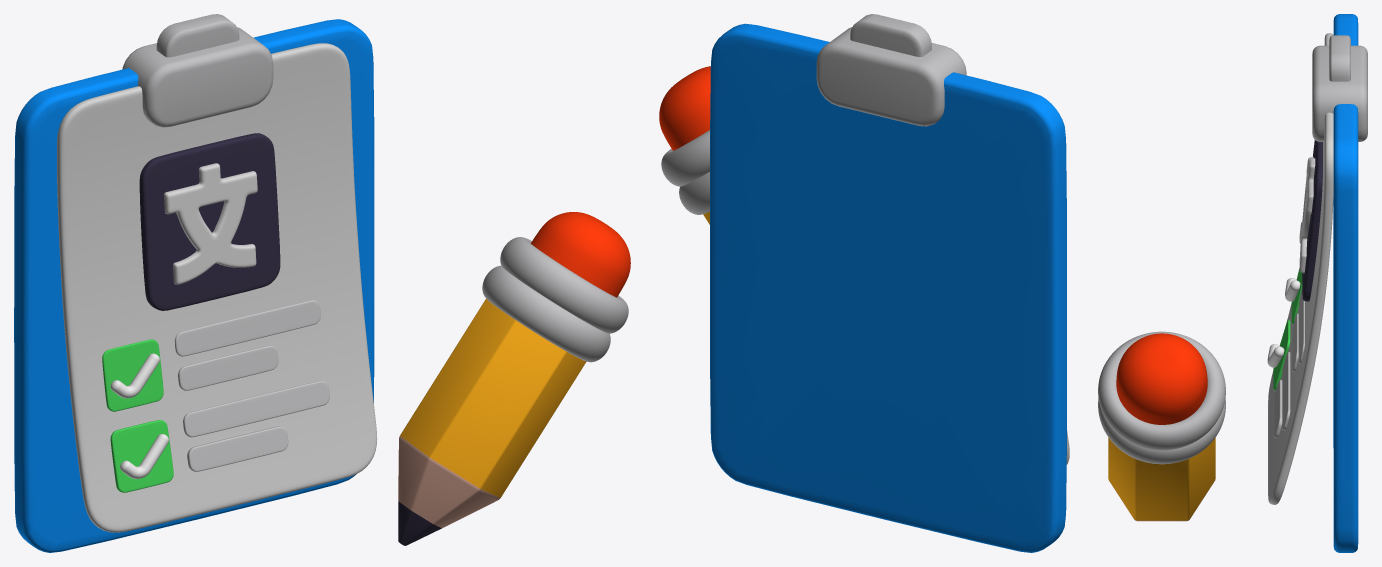
The model's file is language-test-animated-3d-icon-77826157402.glb.
3 renders of one model, left to right at view 1: azimuth 30°, elevation 25°; view 2: azimuth 150°, elevation 25°; view 3: azimuth 270°, elevation 25°, orthographic. The views are drawn at different scales.
Parts seen in each view (by area): view 1: Paper.001, Paper Board, Pencil.001, Base.003, Clip, Joint, Plane.006, Language Icon, Plane.004, Tip, Plane.005, Plane.003 (+2 smaller); view 2: Paper Board, Clip, Tip, Joint; view 3: Paper Board, Joint, Paper.001, Tip, Pencil.001, Clip, Base.003, Plane.006, Language Icon, Plane.004, Plane.005.
Boxes of the visible parts, <box> form: Paper.001: <box>57,43,377,532</box>; Paper Board: <box>14,19,374,552</box>; Pencil.001: <box>398,298,586,545</box>; Base.003: <box>139,133,280,310</box>; Clip: <box>122,14,273,127</box>; Joint: <box>482,237,628,362</box>; Plane.006: <box>183,380,329,471</box>; Language Icon: <box>164,163,257,284</box>; Plane.004: <box>174,300,320,390</box>; Tip: <box>531,212,630,297</box>; Plane.005: <box>110,420,173,492</box>; Plane.003: <box>102,339,163,411</box>; Paper Board: <box>710,23,1066,552</box>; Clip: <box>816,14,966,126</box>; Tip: <box>659,66,710,150</box>; Joint: <box>661,130,709,214</box>; Paper Board: <box>1333,14,1358,552</box>; Joint: <box>1098,331,1225,464</box>; Paper.001: <box>1268,33,1333,504</box>; Tip: <box>1116,333,1207,424</box>; Pencil.001: <box>1108,437,1215,521</box>; Clip: <box>1312,35,1367,141</box>; Base.003: <box>1302,140,1322,301</box>; Plane.006: <box>1274,352,1290,438</box>; Language Icon: <box>1299,157,1315,273</box>; Plane.004: <box>1292,288,1304,371</box>; Plane.005: <box>1273,320,1290,390</box>.
Bounding box in the file's own units: 2.29 × 2.15 × 1.19.
